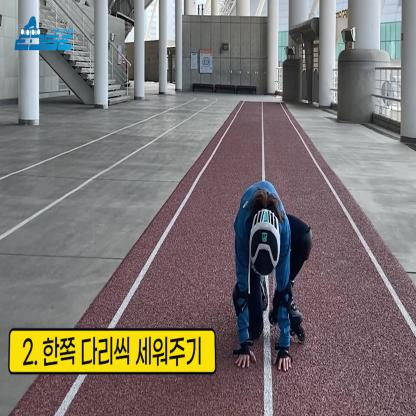Fall_Down: (231, 180, 316, 374)
